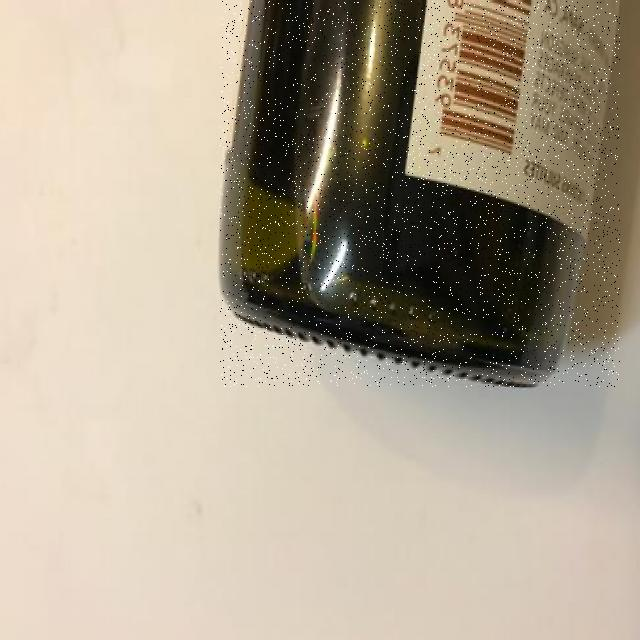glass: (220, 1, 620, 387)
